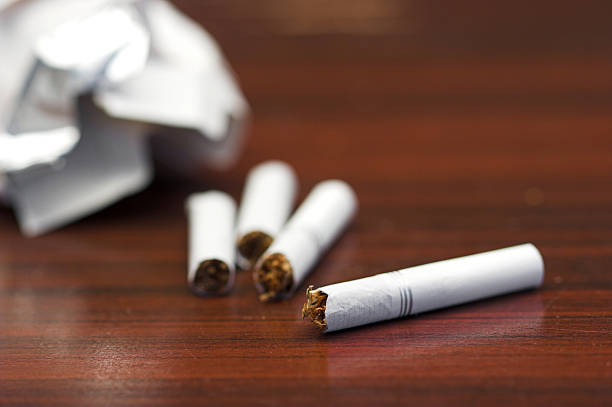cigarette: (299, 240, 545, 335), (251, 178, 358, 303), (234, 157, 300, 270), (188, 189, 238, 297)
